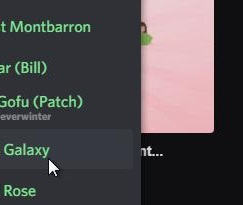cursor: (46, 156, 61, 179)
